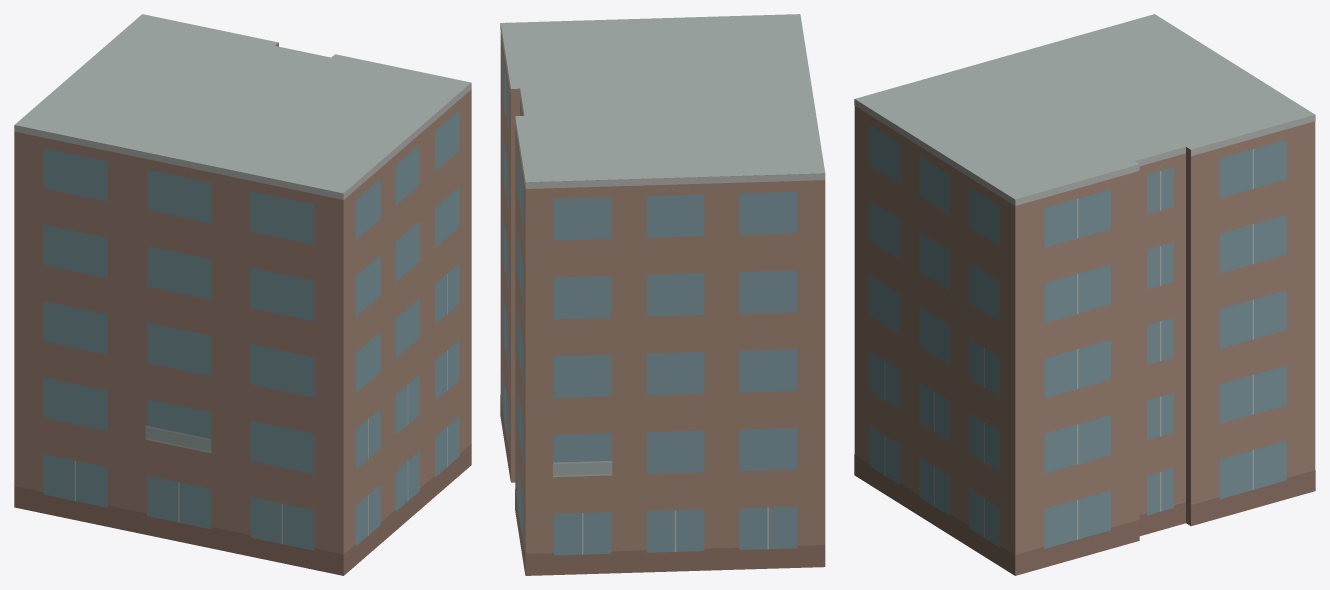
File: survey-upis-32732638.glb
3 views of the same model, side by side, from view 1: azimuth 30°, elevation 25°; view 2: azimuth 150°, elevation 25°; view 3: azimuth 270°, elevation 25° (orthographic). The views are drawn at different scales.
Visible parts, largest first — view 1: survey-upis-32732638.tmp; view 2: survey-upis-32732638.tmp; view 3: survey-upis-32732638.tmp.
Boxes of the visible parts, x1=… form: survey-upis-32732638.tmp: x1=14, y1=14, x2=471, y2=575; survey-upis-32732638.tmp: x1=500, y1=14, x2=825, y2=575; survey-upis-32732638.tmp: x1=854, y1=14, x2=1315, y2=575.
Bounding box in the file's own units: 14.97 × 14.15 × 15.71.
